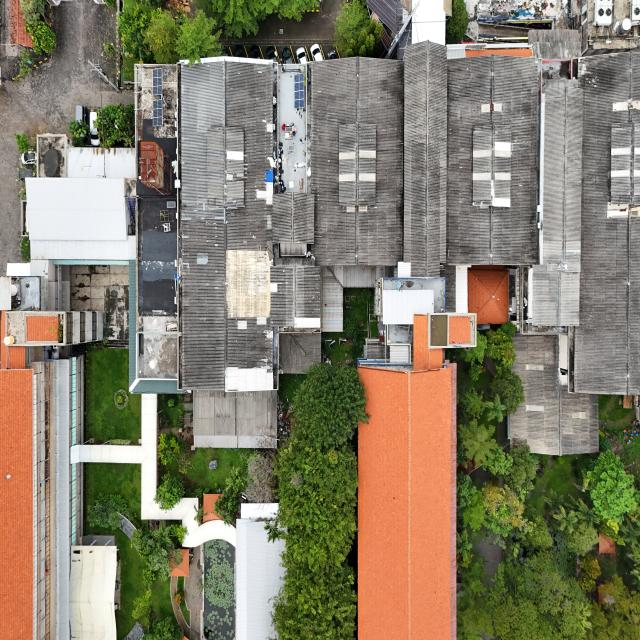Tree: (171, 9, 227, 62), (98, 102, 135, 146), (156, 472, 184, 511), (153, 432, 182, 466), (550, 502, 578, 536), (460, 385, 487, 420), (483, 394, 508, 423)
